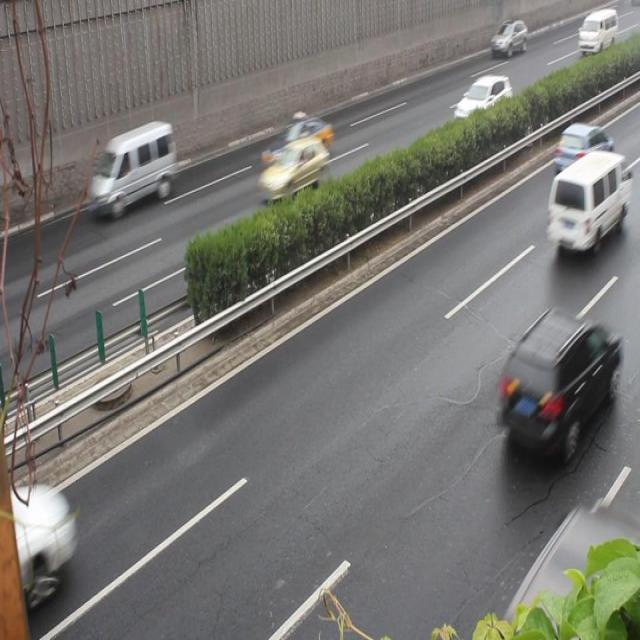car: (497, 306, 619, 461), (1, 474, 72, 597), (257, 139, 329, 201), (259, 114, 332, 169), (554, 120, 614, 181), (452, 75, 510, 130)
truck: (88, 119, 177, 216), (549, 153, 629, 250)
